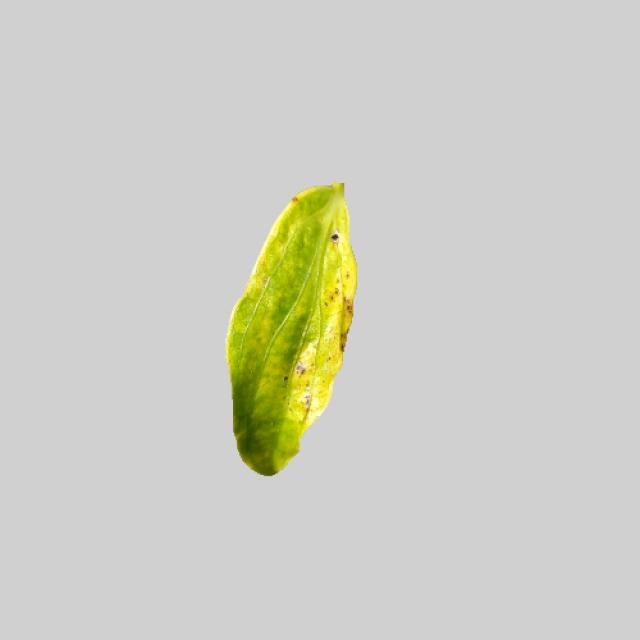yellow-mottle-virus: (218, 179, 361, 475)
